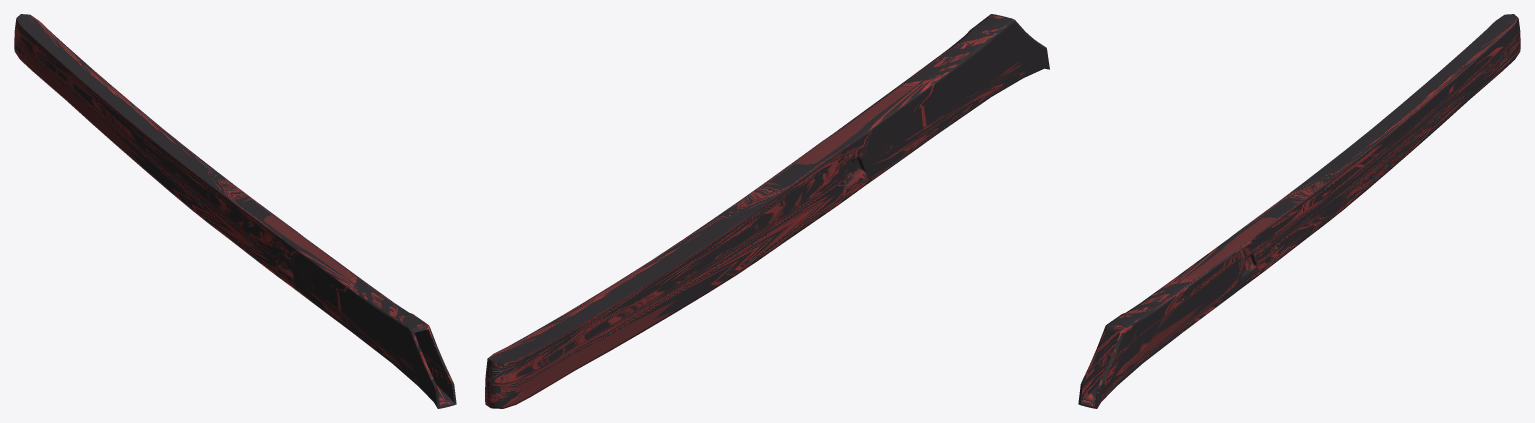
Rendered from katana_saya.glb.
3 renders of one model, left to right at view 1: azimuth 30°, elevation 25°; view 2: azimuth 150°, elevation 25°; view 3: azimuth 330°, elevation 25°, orthographic. The views are drawn at different scales.
Bounding box in the file's own units: 0.02 × 0.0825 × 0.7907.
1 material, 1 textured.
